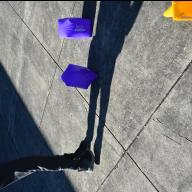cone: (162, 1, 192, 20)
cube: (59, 63, 99, 88), (57, 16, 92, 38)
